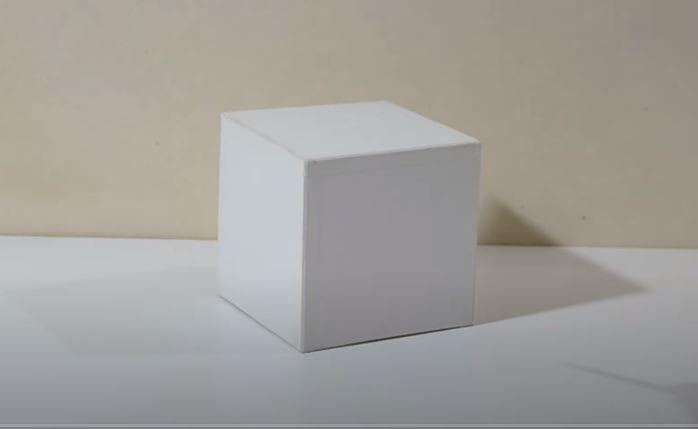cubos: (207, 94, 495, 364)
